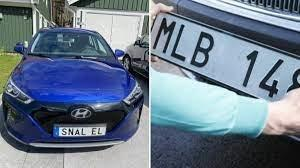license-plates: (54, 124, 106, 137)
